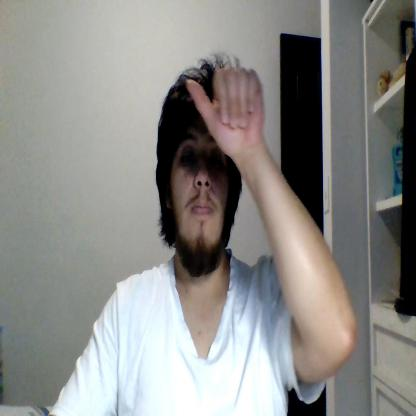A: (188, 67, 265, 151)
